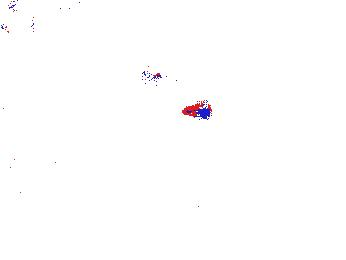red belly glassfish: (180, 103, 216, 119), (140, 64, 161, 86)
redtail glassfish: (1, 10, 41, 37), (5, 1, 86, 14)
